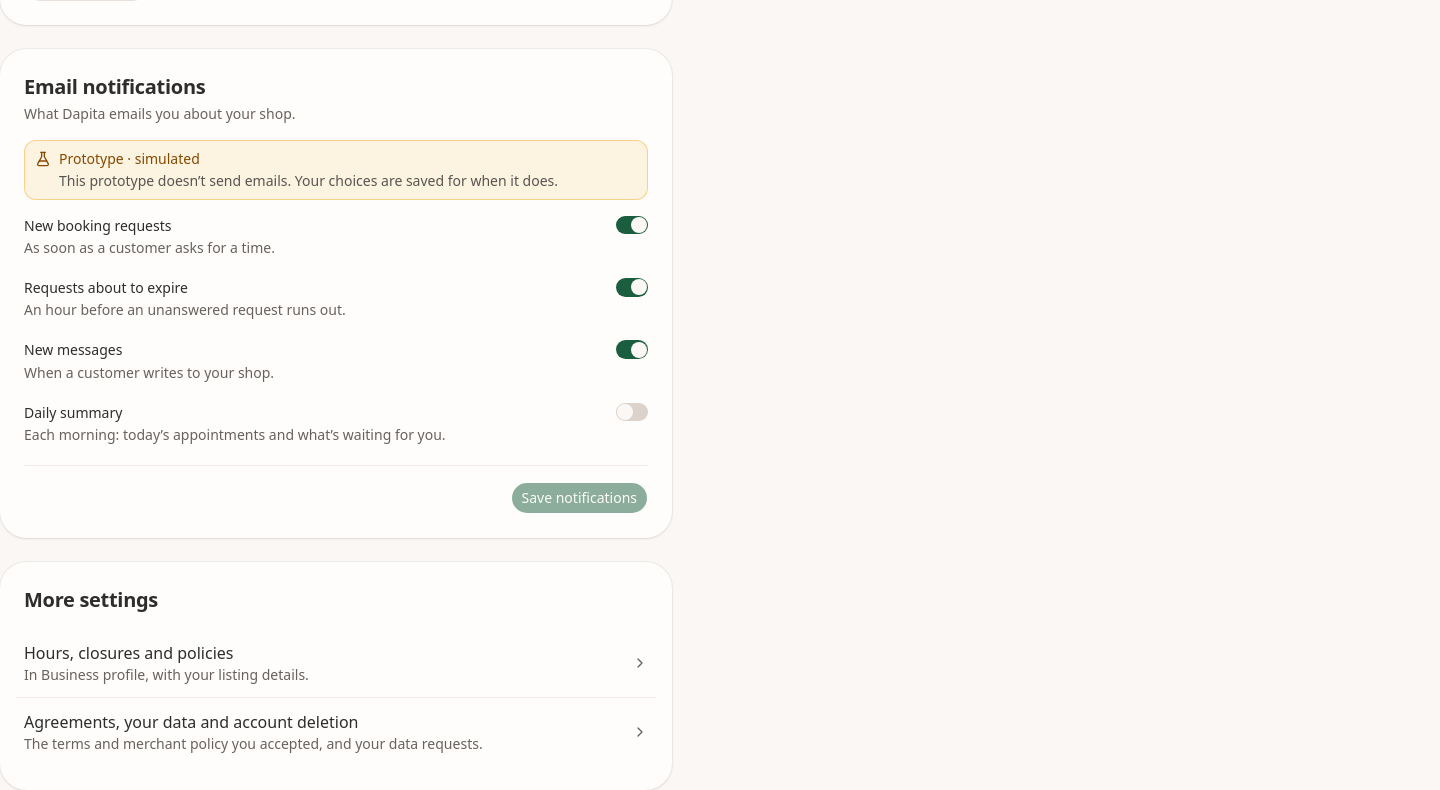
Test: MerchantSettingsPage › saves which emails to get
The width and height of the screenshot is (1440, 790).
(page scrolled)
Expected: the switch named "New booking requests" in the row of "New booking requests" is checked, x1=616 y1=216 x2=648 y2=234
Click the switch named "Daily summary" in the row of "Daily summary".
click(632, 412)  # box x1=616 y1=403 x2=648 y2=421
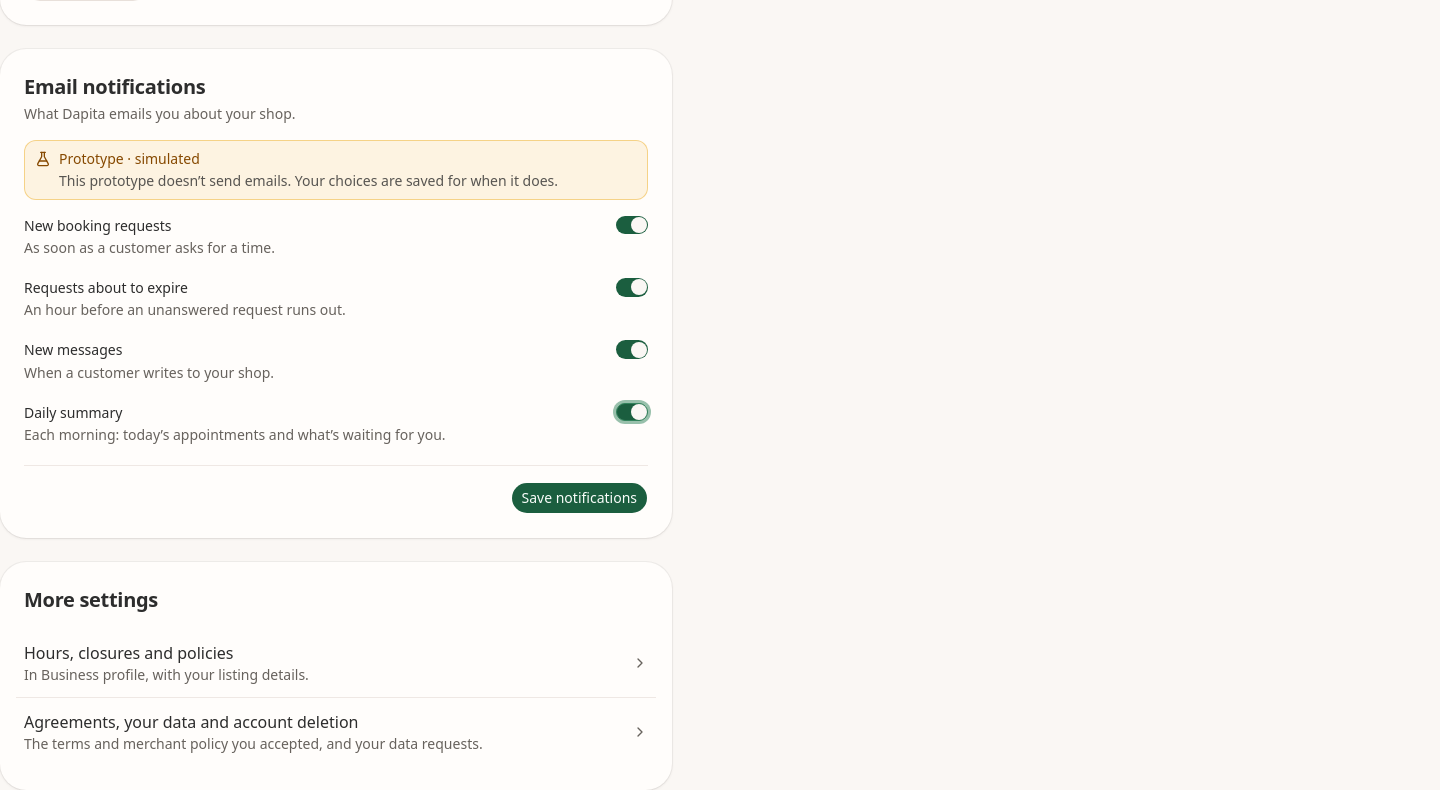
Click the switch named "New messages" in the row of "New messages".
click(632, 350)  # box x1=616 y1=340 x2=648 y2=359
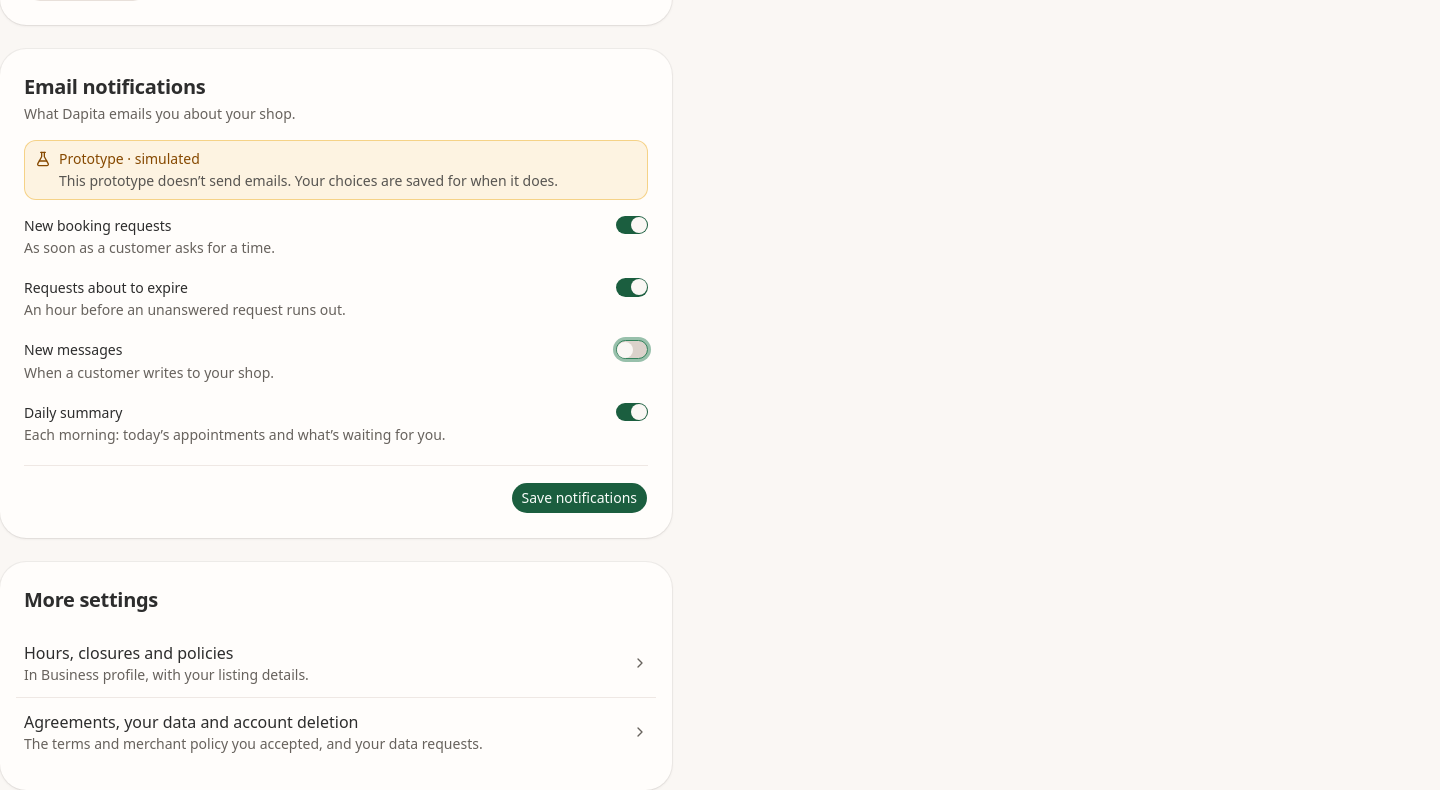
Click the button "Save notifications".
click(579, 498)  # box x1=510 y1=482 x2=648 y2=514
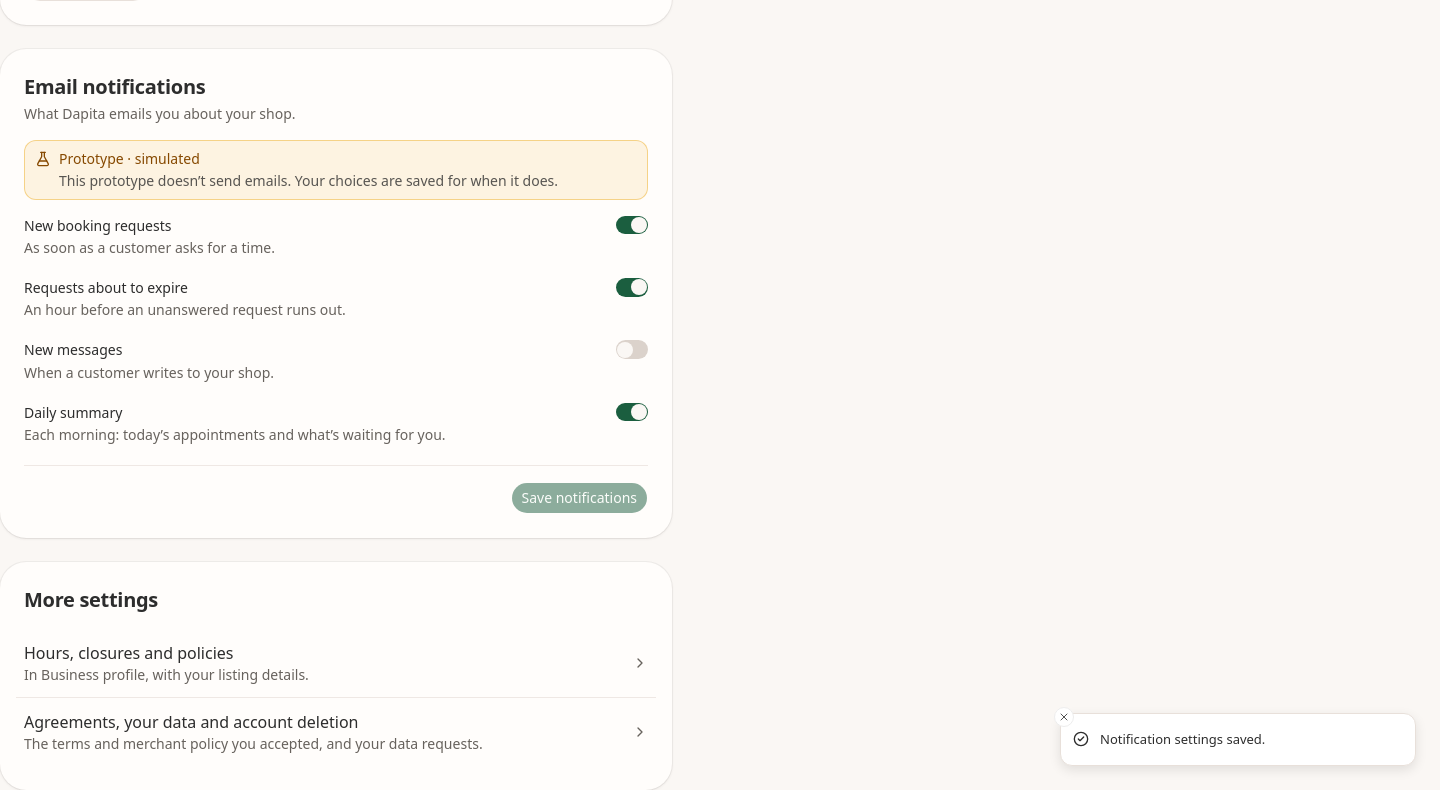
Expected: the text "Notification settings saved." is shown, x1=1100 y1=730 x2=1265 y2=749
